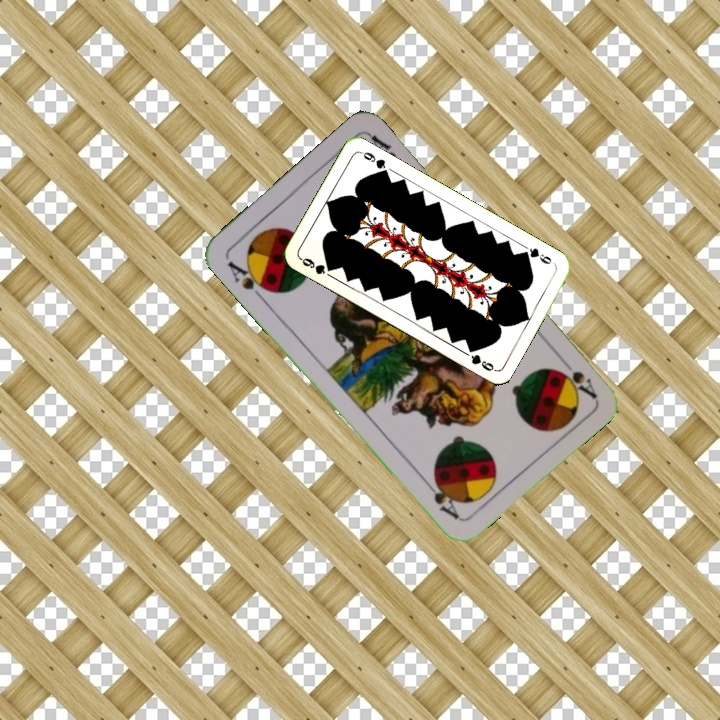G9: (296, 254, 337, 277), (517, 244, 557, 267)
SA: (223, 256, 275, 304), (554, 351, 600, 401)
